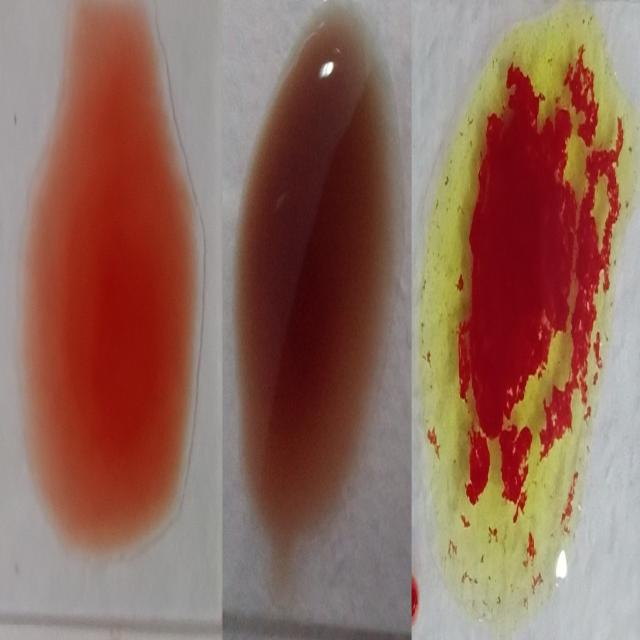B: (426, 12, 622, 620)
